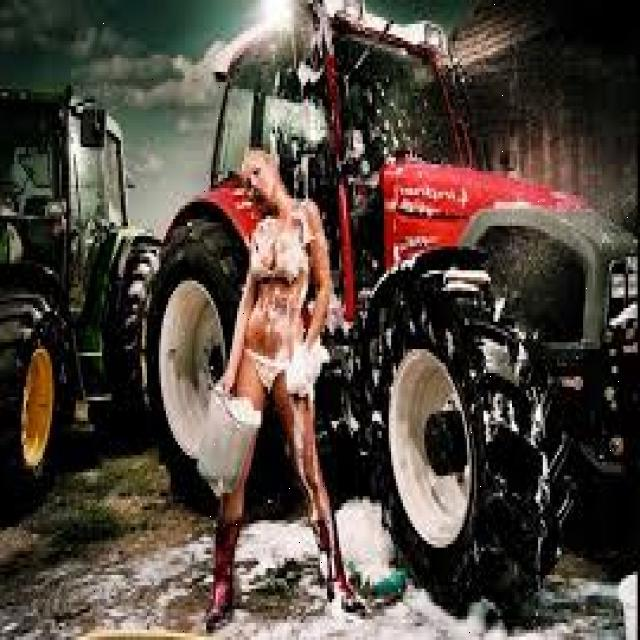Tratores - v5 YOLO V8L 2024-11-13: (149, 3, 640, 620), (0, 84, 162, 508)
